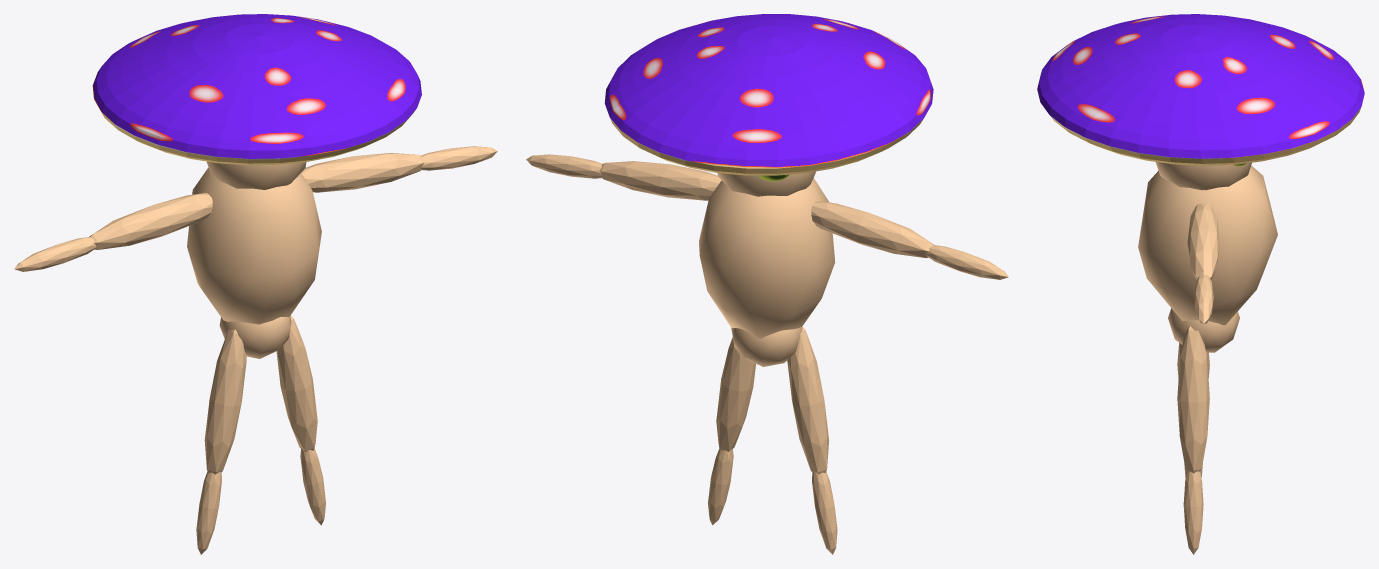
Rendered from Alb blau.fbx.
The picture shows the model from 3 angles, left to right: view 1: azimuth 30°, elevation 25°; view 2: azimuth 150°, elevation 25°; view 3: azimuth 270°, elevation 25°; orthographic projection. The views are drawn at different scales.
Visible parts, largest first — view 1: Kugel.001, Icokugel, Icokugel.006, Icokugel.002, Icokugel.003, Icokugel.005, Icokugel.004, Icokugel.001; view 2: Kugel.001, Icokugel, Icokugel.002, Icokugel.006, Icokugel.003, Icokugel.005, Icokugel.001, Icokugel.004; view 3: Kugel.001, Icokugel, Icokugel.006, Icokugel.002, Icokugel.004, Icokugel.001, Icokugel.005, Icokugel.003.
Part boxes in pixels (left/top/right/bottom): Kugel.001: left=92, top=14, right=421, bottom=165; Icokugel: left=187, top=167, right=321, bottom=324; Icokugel.006: left=204, top=315, right=317, bottom=474; Icokugel.002: left=89, top=153, right=423, bottom=249; Icokugel.003: left=14, top=146, right=497, bottom=271; Icokugel.005: left=196, top=448, right=325, bottom=554; Icokugel.004: left=206, top=161, right=306, bottom=189; Icokugel.001: left=219, top=316, right=291, bottom=358; Kugel.001: left=604, top=14, right=933, bottom=175; Icokugel: left=699, top=178, right=835, bottom=338; Icokugel.002: left=599, top=161, right=933, bottom=257; Icokugel.006: left=716, top=327, right=829, bottom=474; Icokugel.003: left=526, top=154, right=1008, bottom=279; Icokugel.005: left=708, top=448, right=837, bottom=554; Icokugel.001: left=731, top=326, right=802, bottom=366; Icokugel.004: left=717, top=171, right=815, bottom=196; Kugel.001: left=1037, top=14, right=1364, bottom=165; Icokugel: left=1138, top=165, right=1277, bottom=325; Icokugel.006: left=1177, top=326, right=1209, bottom=473; Icokugel.002: left=1187, top=203, right=1219, bottom=279; Icokugel.004: left=1155, top=162, right=1251, bottom=190; Icokugel.001: left=1168, top=308, right=1239, bottom=352; Icokugel.005: left=1183, top=463, right=1203, bottom=554; Icokugel.003: left=1194, top=275, right=1213, bottom=323.
Size of the model in its own units: 837 by 833 by 505.
